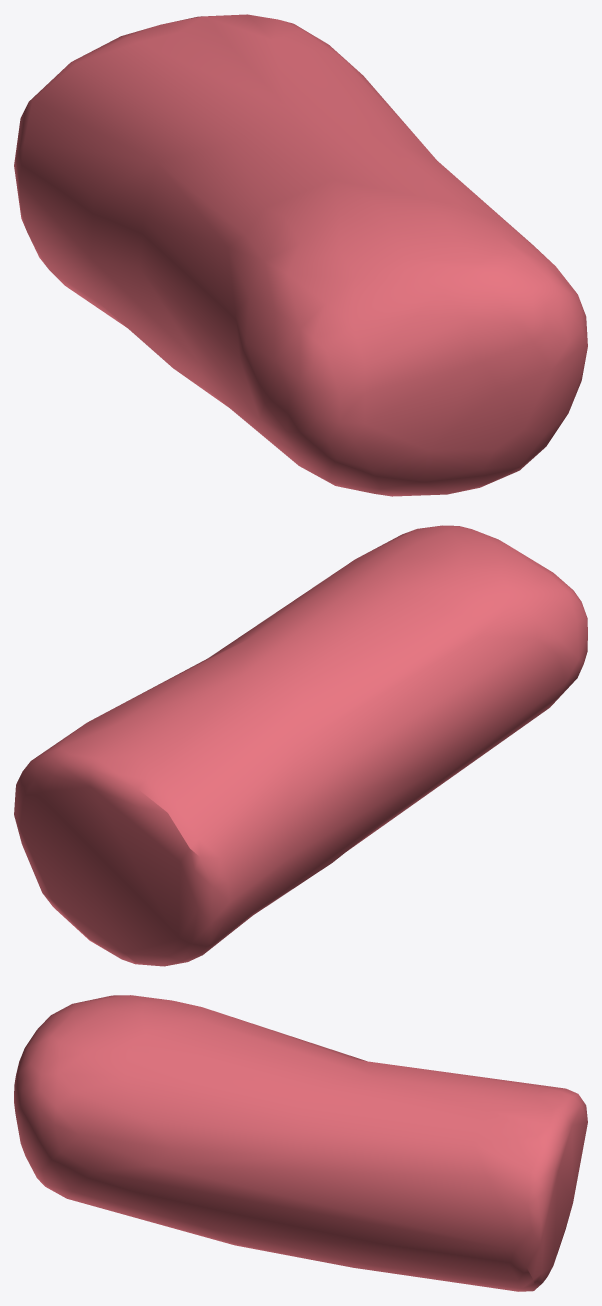
Rendered from fma50737.glb.
3 views of the same model, one above another, from view 1: azimuth 30°, elevation 25°; view 2: azimuth 150°, elevation 25°; view 3: azimuth 270°, elevation 25° (orthographic). The views are drawn at different scales.
Parts seen in each view (by area): view 1: FMA50737; view 2: FMA50737; view 3: FMA50737.
Boxes of the visible parts, x1,y1,x2,y2 form: FMA50737: (14, 14, 587, 496); FMA50737: (14, 525, 587, 966); FMA50737: (14, 995, 587, 1291).
Size of the model in its own units: 0.0134 by 0.0105 by 0.0239.
